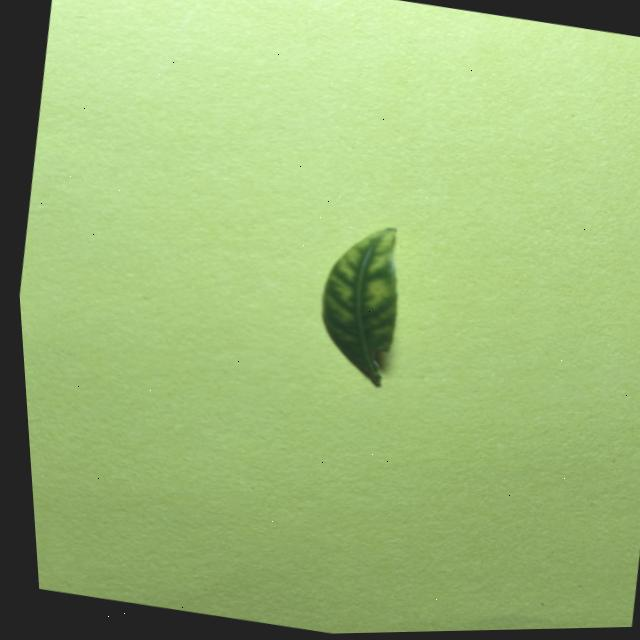greening: (322, 228, 397, 386)
